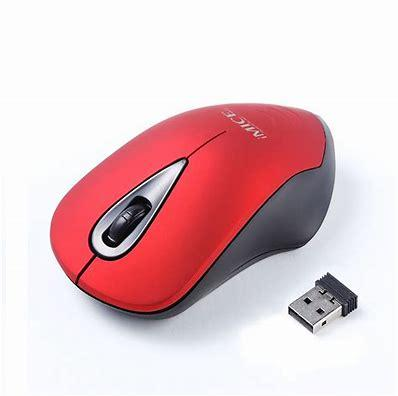computer mouse: (49, 103, 336, 321)
